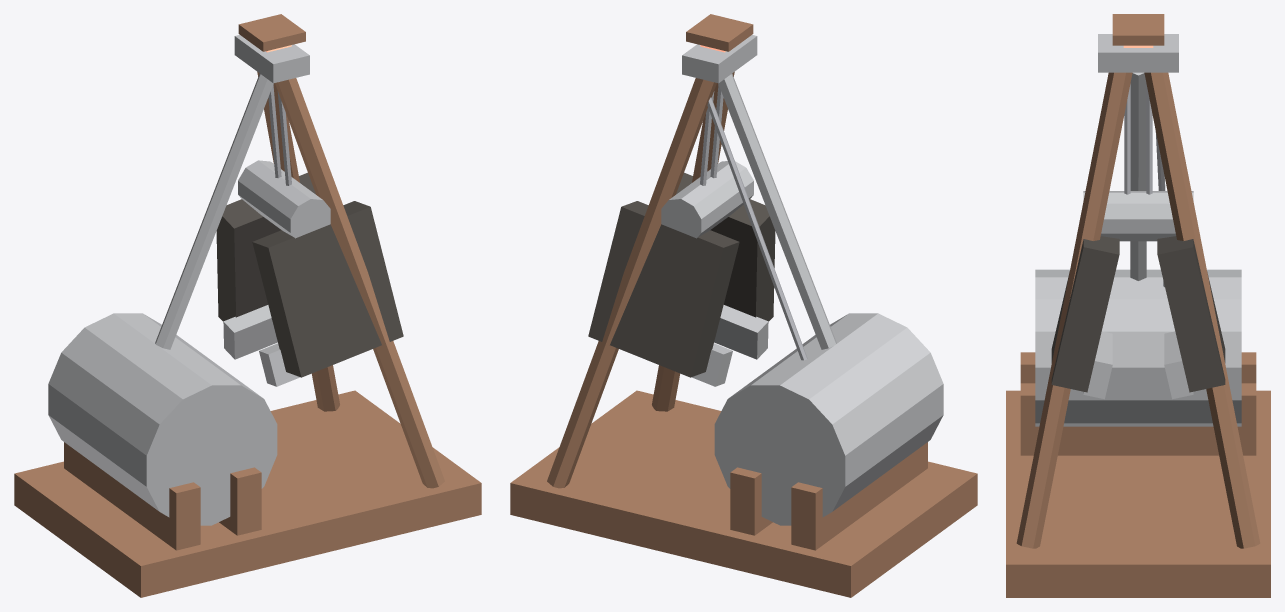
Rendered from salvage_clamp.glb.
The picture shows the model from 3 angles, left to right: view 1: azimuth 30°, elevation 25°; view 2: azimuth 150°, elevation 25°; view 3: azimuth 270°, elevation 25°; orthographic projection. The views are drawn at different scales.
Parts seen in each view (by area): view 1: skid, winch, jaw_s, aframe_s, jaw_p, brace, winch_stand_a, hinge, apex_cap, winch_stand_b, tooth_p, aframe_p (+2 smaller); view 2: skid, winch, jaw_p, aframe_p, brace, winch_stand_a, jaw_s, hinge, apex_cap, winch_stand_b, tooth_s, cable_a (+3 smaller); view 3: skid, winch, aframe_p, aframe_s, winch_stand_b, jaw_p, jaw_s, hinge, brace, apex_cap, hood_shade, tooth_p (+4 smaller).
Boxes of the visible parts, x1,y1,x2,y2 form: skid: (14, 390, 481, 597); winch: (48, 313, 277, 525); jaw_s: (252, 201, 403, 377); aframe_s: (275, 78, 444, 488); jaw_p: (216, 172, 315, 321); brace: (155, 73, 273, 349); winch_stand_a: (64, 442, 200, 550); hinge: (238, 160, 330, 238); apex_cap: (234, 35, 309, 83); winch_stand_b: (219, 467, 261, 535); tooth_p: (223, 305, 277, 359); aframe_p: (257, 72, 339, 411); skid: (510, 390, 977, 597); winch: (714, 313, 943, 525); jaw_p: (588, 201, 739, 377); aframe_p: (547, 78, 716, 488); brace: (718, 73, 836, 349); winch_stand_a: (791, 442, 927, 550); jaw_s: (676, 172, 775, 321); hinge: (661, 161, 753, 238); apex_cap: (682, 35, 757, 83); winch_stand_b: (730, 467, 772, 535); tooth_s: (714, 305, 768, 359); cable_a: (707, 97, 807, 360); skid: (1006, 390, 1270, 597); winch: (1035, 269, 1241, 426); aframe_p: (1144, 72, 1260, 548); aframe_s: (1016, 72, 1132, 548); winch_stand_b: (1020, 383, 1256, 455); jaw_p: (1157, 236, 1225, 392); jaw_s: (1051, 236, 1119, 392); hinge: (1083, 191, 1193, 241); brace: (1130, 72, 1146, 280); apex_cap: (1098, 34, 1178, 72); hood_shade: (1112, 14, 1164, 45); tooth_p: (1164, 331, 1193, 399).
Bounding box in the file's own units: 5.6 × 7.48 × 3.6.
